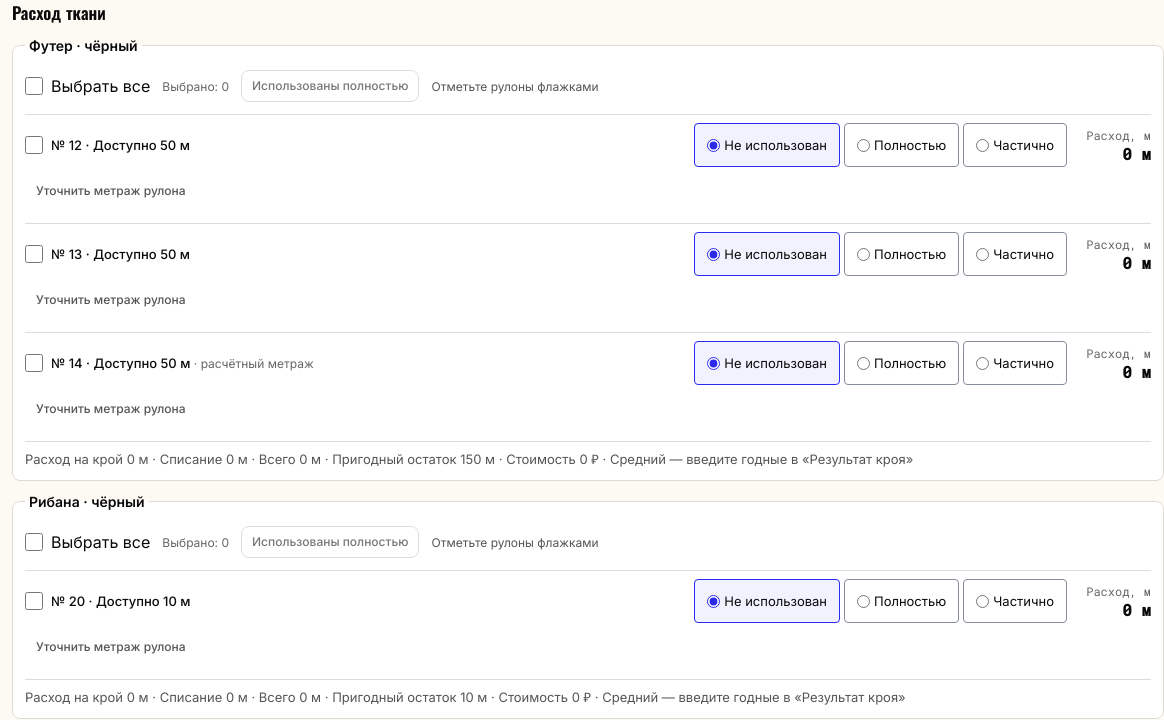
Scenario: CutUsageSection — режимы рулона › выбор строк сам не меняет итоги
The width and height of the screenshot is (1164, 720).
Step 1. Click the checkbox named "Выбрать все в группе Футер · чёрный" → (34, 86), box [25, 77, 43, 95]
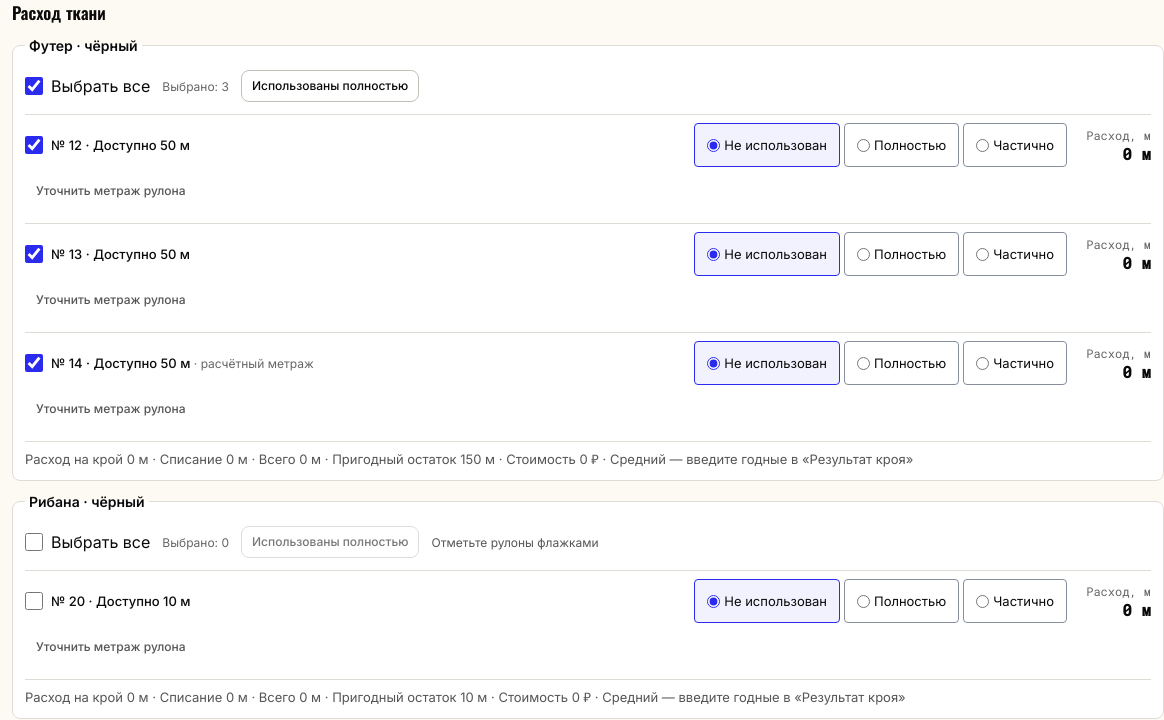
Expected: the checkbox named "Выбрать рулон №14" is checked, [25, 354, 43, 372]
